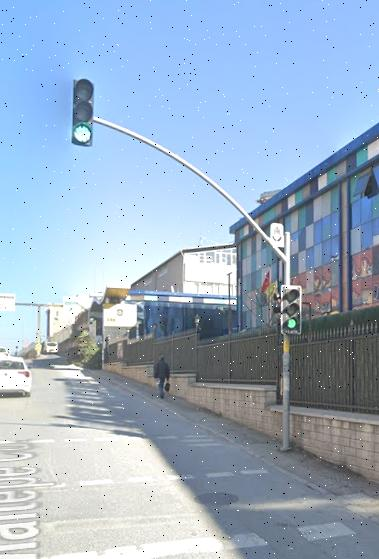greenlight: (72, 80, 97, 146), (278, 284, 302, 331)
